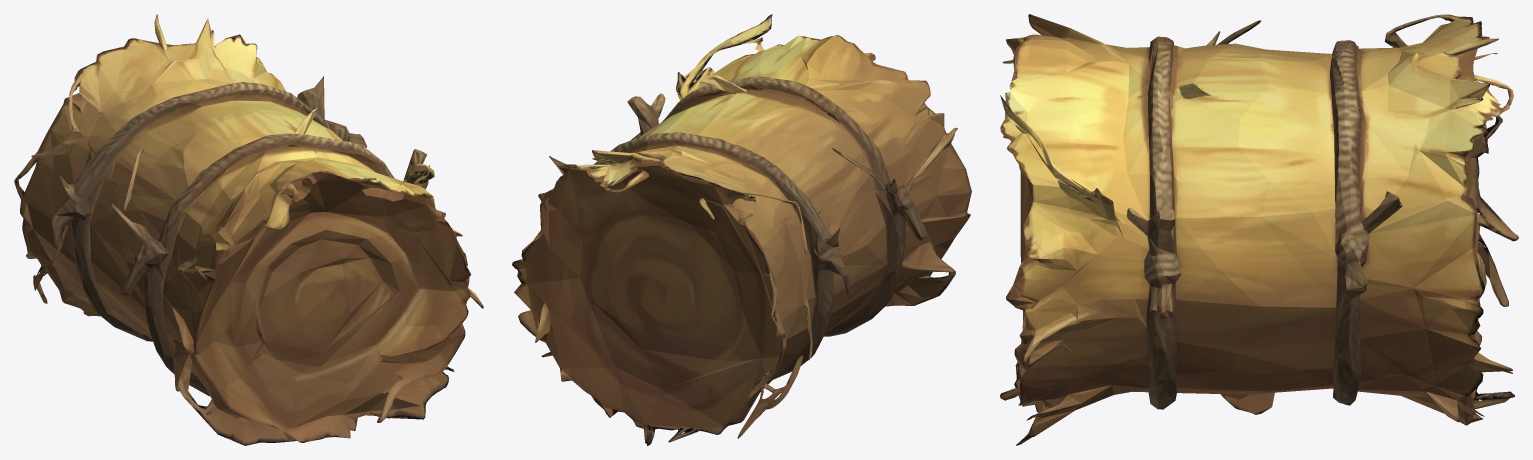
File: hay.glb
3 renders of one model, left to right at view 1: azimuth 30°, elevation 25°; view 2: azimuth 150°, elevation 25°; view 3: azimuth 270°, elevation 25°, orthographic. The views are drawn at different scales.
Parts seen in each view (by area): view 1: world; view 2: world; view 3: world.
Part boxes in pixels (x1=…): world: x1=14, y1=14, x2=483, y2=445; world: x1=512, y1=14, x2=971, y2=445; world: x1=1000, y1=14, x2=1518, y2=445.
Bounding box in the file's own units: 0.9064 × 0.7897 × 0.998.
Materials: 1 (1 with a texture image).
